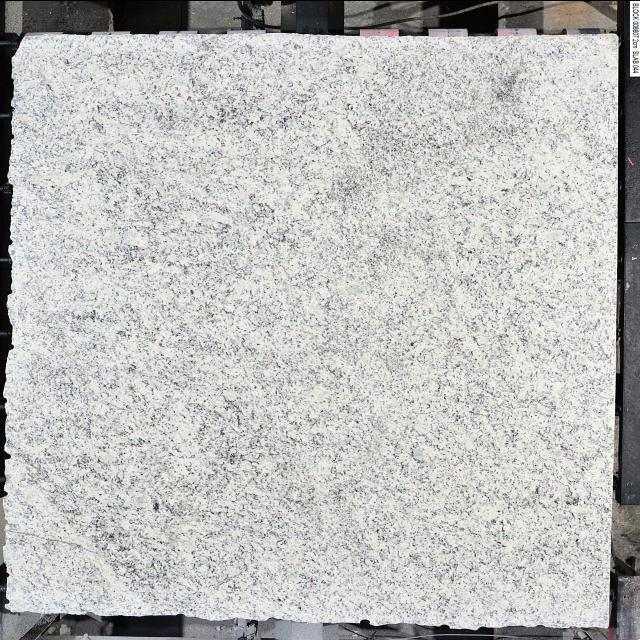chapa: (6, 32, 618, 628)
veio: (356, 616, 374, 627), (3, 449, 15, 460)
